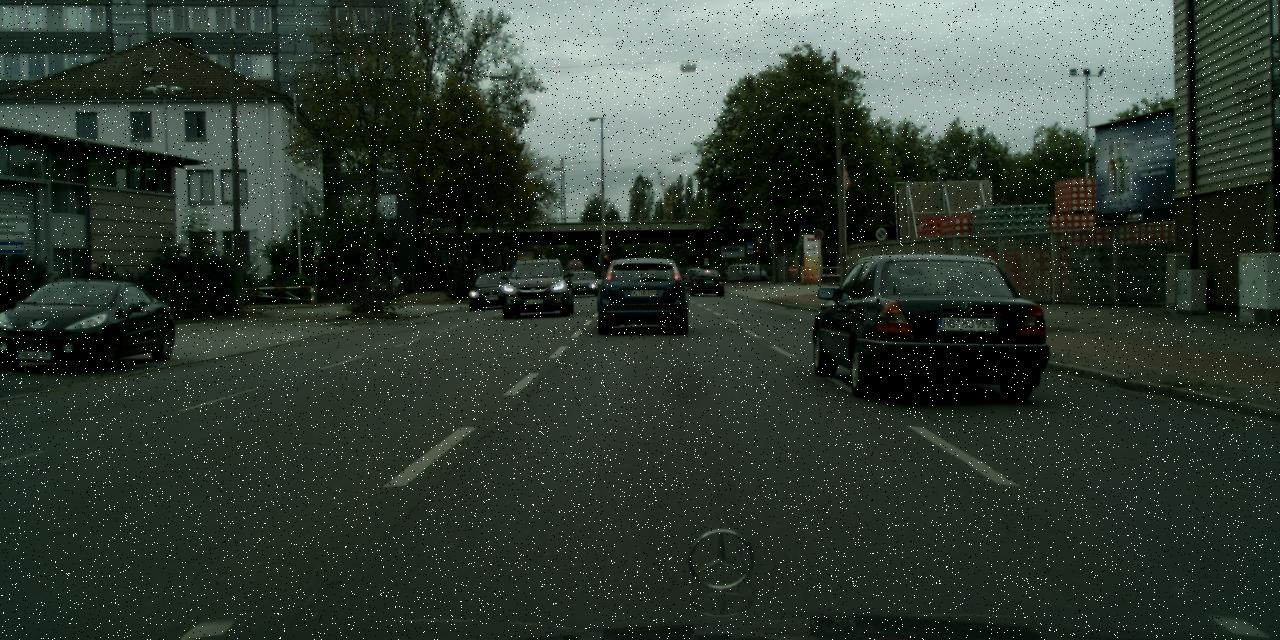ped: (84, 261, 104, 313)
